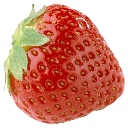strawberry: (3, 3, 125, 125)
